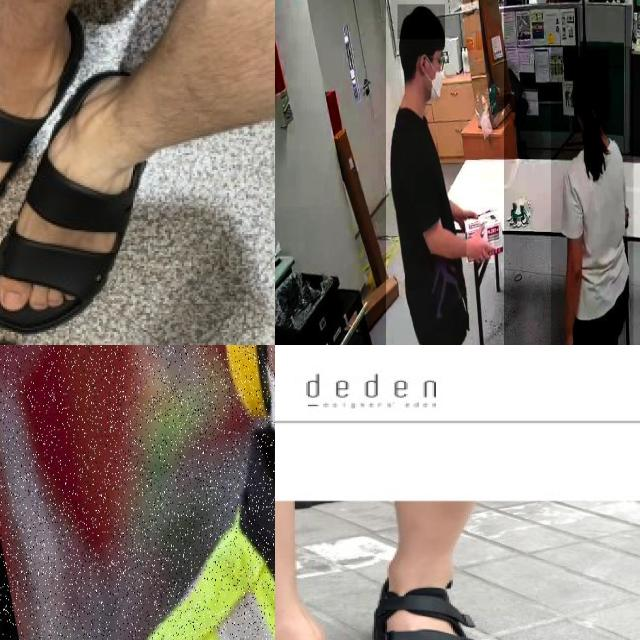Ear-protection: (224, 345, 264, 429)
Sandals: (0, 99, 146, 332), (369, 574, 483, 640)
face_mask: (420, 59, 448, 100)
hand_noglove: (466, 219, 494, 264), (455, 206, 479, 228), (559, 327, 576, 345)
head_nohelmet: (398, 4, 446, 40), (572, 49, 610, 88)
person: (385, 0, 504, 345), (551, 46, 634, 345)
